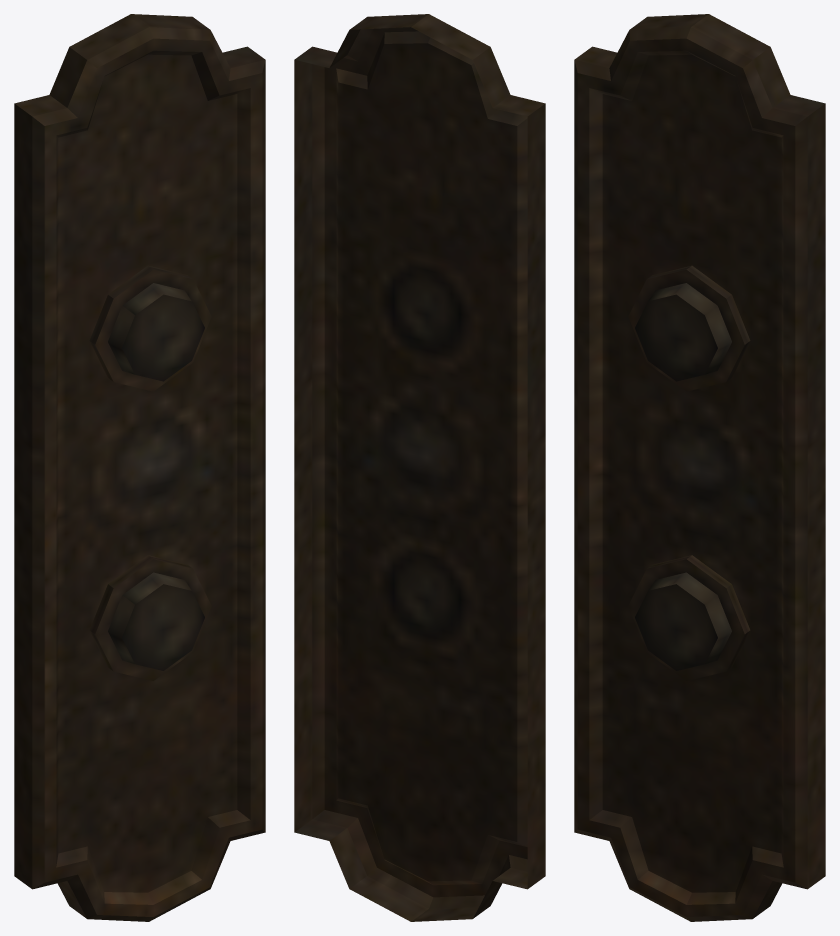
The model's file is elevator_call_button_1.obj.
3 renders of one model, left to right at view 1: azimuth 30°, elevation 25°; view 2: azimuth 150°, elevation 25°; view 3: azimuth 330°, elevation 25°, orthographic.
Visible parts, largest first — view 1: elevator_call_button_1; view 2: elevator_call_button_1; view 3: elevator_call_button_1.
Part boxes in pixels (x1,y1,x2,y2): elevator_call_button_1: (14, 14, 265, 921); elevator_call_button_1: (294, 14, 545, 921); elevator_call_button_1: (574, 14, 825, 921).
Size of the model in its own units: 0.12 by 0.44 by 0.029.
